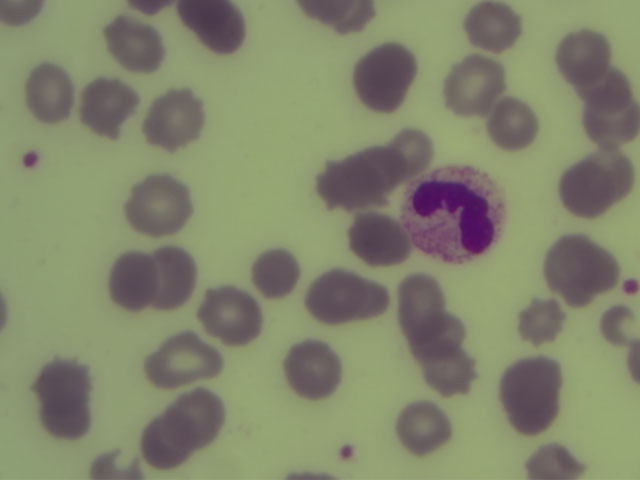Platelets: (17, 145, 45, 176), (337, 436, 359, 464), (619, 274, 640, 300)
RBC: (303, 267, 385, 321), (145, 334, 216, 381), (149, 245, 196, 313), (462, 1, 525, 51), (346, 211, 401, 267), (554, 242, 609, 298), (564, 160, 619, 216), (555, 27, 610, 83), (486, 96, 541, 152), (444, 56, 499, 112), (397, 399, 452, 455), (287, 341, 342, 397), (170, 389, 225, 445), (37, 362, 92, 418), (205, 286, 260, 342), (132, 175, 187, 231), (357, 46, 412, 102), (148, 91, 203, 147), (80, 77, 135, 133), (19, 66, 74, 122), (106, 14, 161, 70), (505, 362, 560, 418), (186, 1, 241, 56), (106, 253, 154, 313), (318, 154, 378, 202), (581, 103, 640, 151), (375, 125, 433, 173), (140, 416, 192, 468), (408, 313, 465, 359), (249, 249, 301, 298), (399, 271, 441, 328), (516, 298, 568, 344), (307, 1, 384, 32), (421, 348, 474, 393), (521, 443, 584, 480), (577, 66, 630, 106), (1, 1, 49, 22)
WBC: (405, 172, 503, 263)
